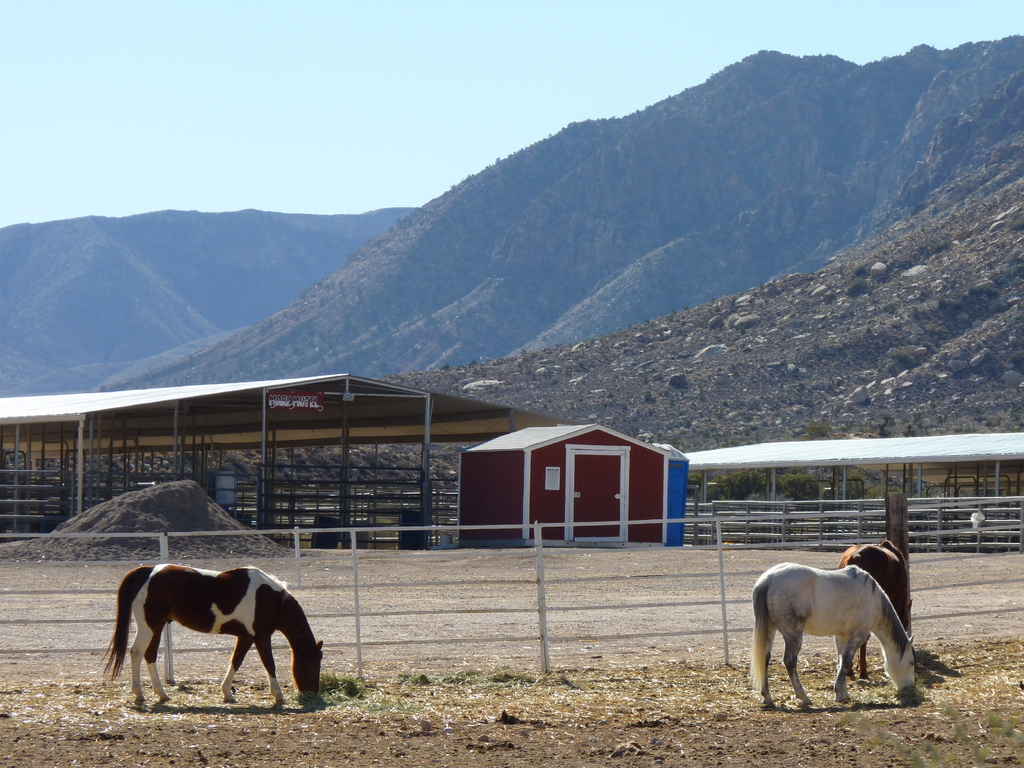horse: (97, 562, 326, 712), (746, 563, 915, 711)
